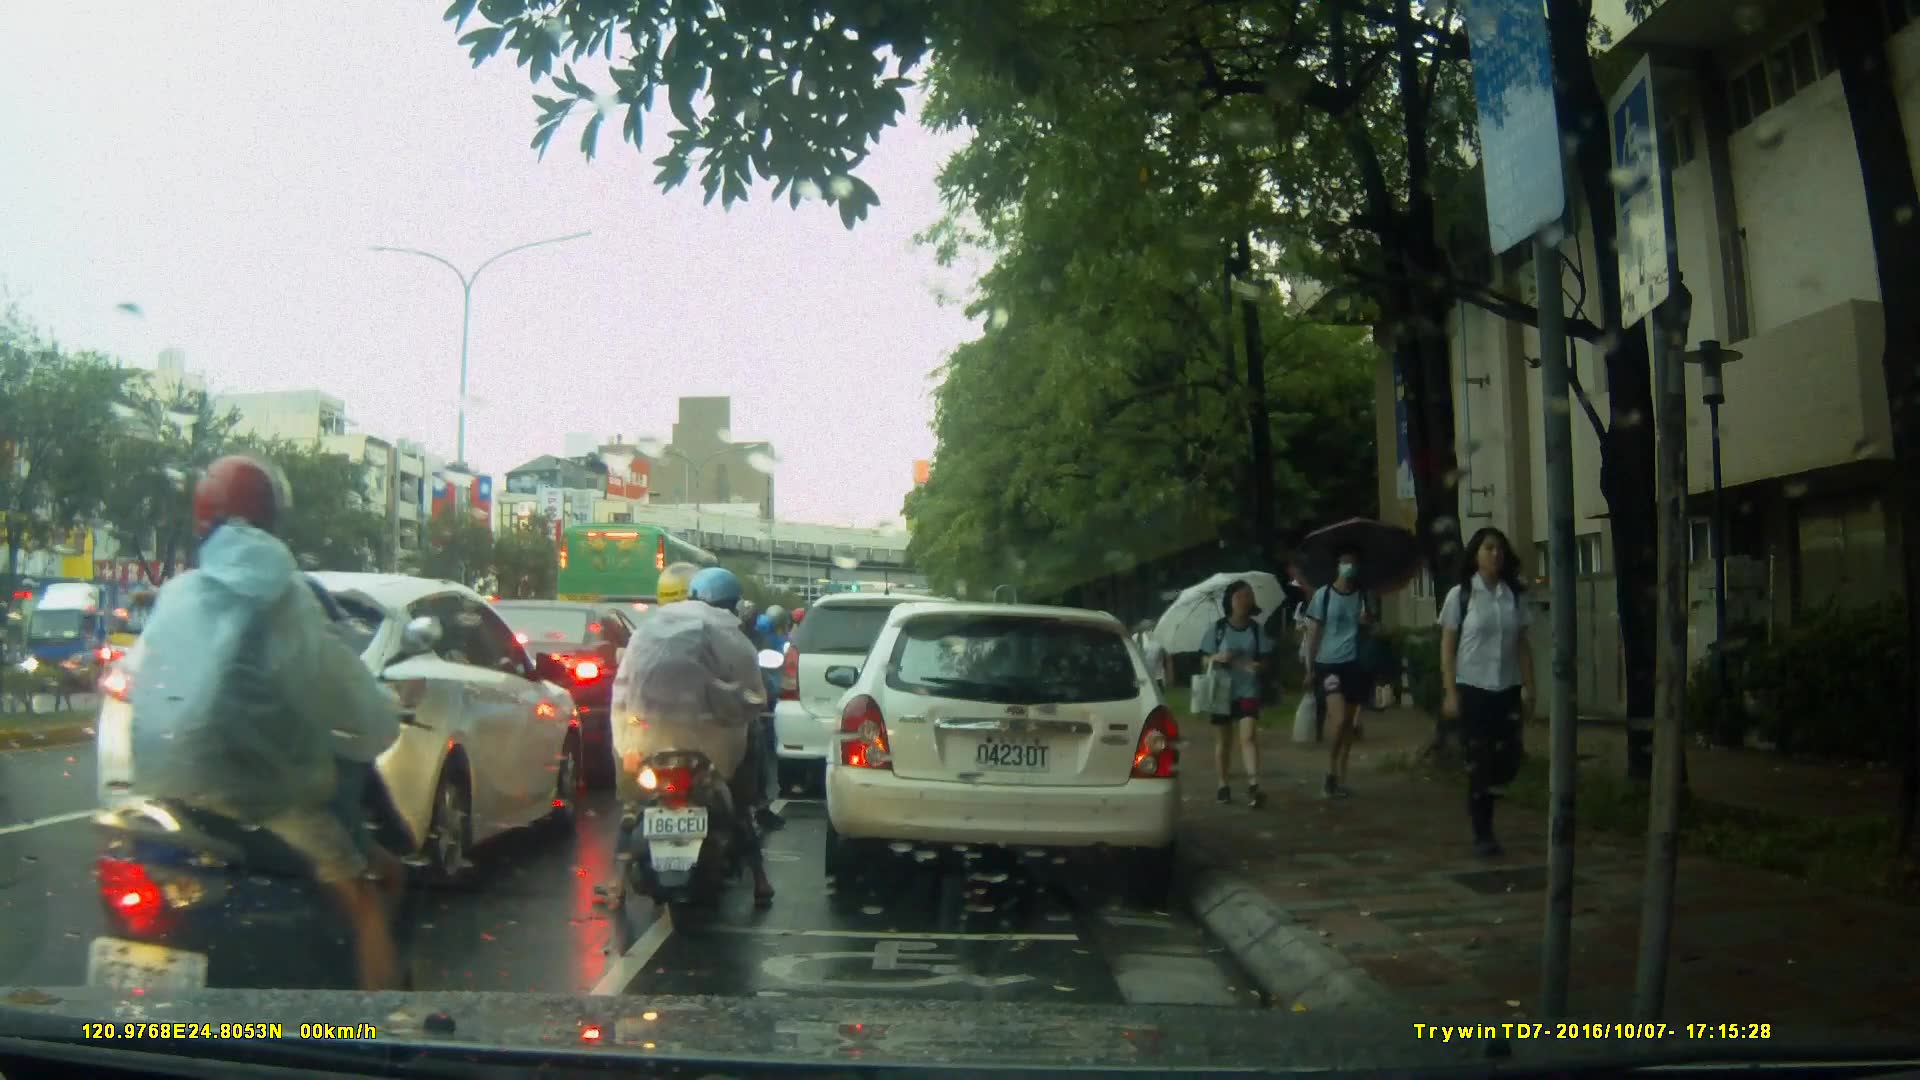pedestrian: (1426, 520, 1549, 864), (1294, 547, 1384, 808), (1195, 574, 1278, 815), (1132, 603, 1173, 744)
rider: (44, 452, 428, 1033), (589, 562, 782, 920), (652, 583, 760, 824)
vehicle: (93, 569, 587, 883), (822, 604, 1186, 882), (774, 595, 995, 802), (554, 519, 739, 666), (20, 576, 199, 697)
